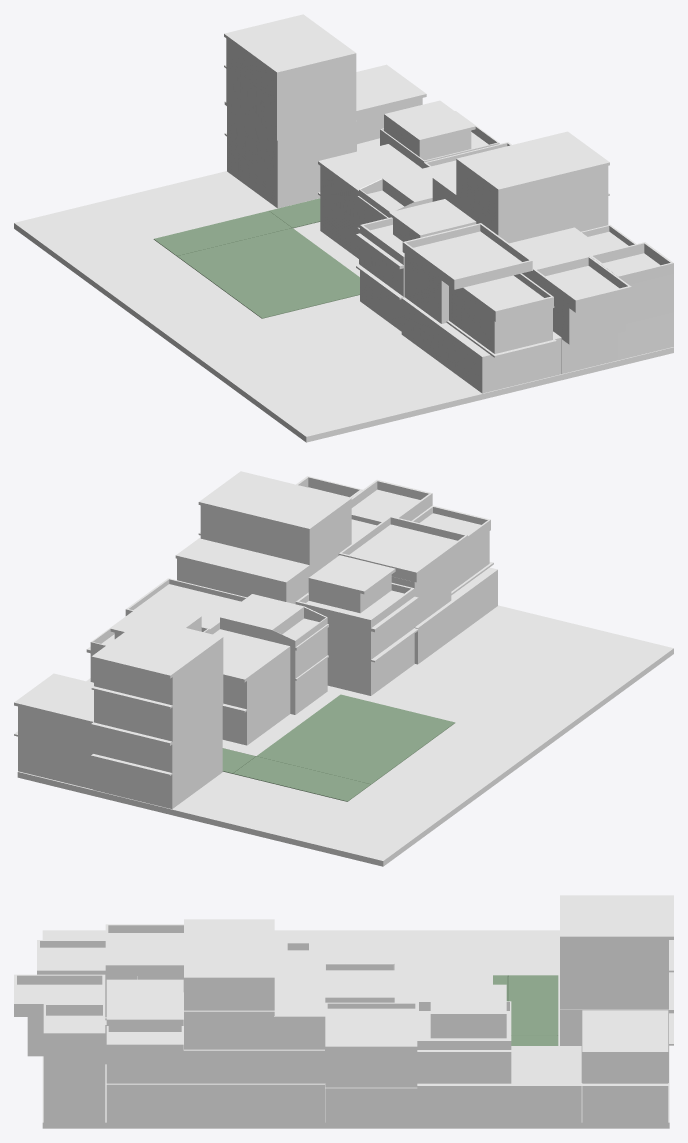
File: cuadra01.obj
3 renders of one model, top to bottom at view 1: azimuth 30°, elevation 25°; view 2: azimuth 150°, elevation 25°; view 3: azimuth 270°, elevation 25°, orthographic. The views are drawn at different scales.
Visible parts, largest first — view 1: Plane.033_Plane.053; view 2: Plane.033_Plane.053; view 3: Plane.033_Plane.053.
Boxes of the visible parts, x1,y1,x2,y2 form: Plane.033_Plane.053: (14,14,673,442); Plane.033_Plane.053: (14,471,673,866); Plane.033_Plane.053: (14,895,673,1128).
Bounding box in the file's own units: 4.75 × 1.71 × 6.72.
